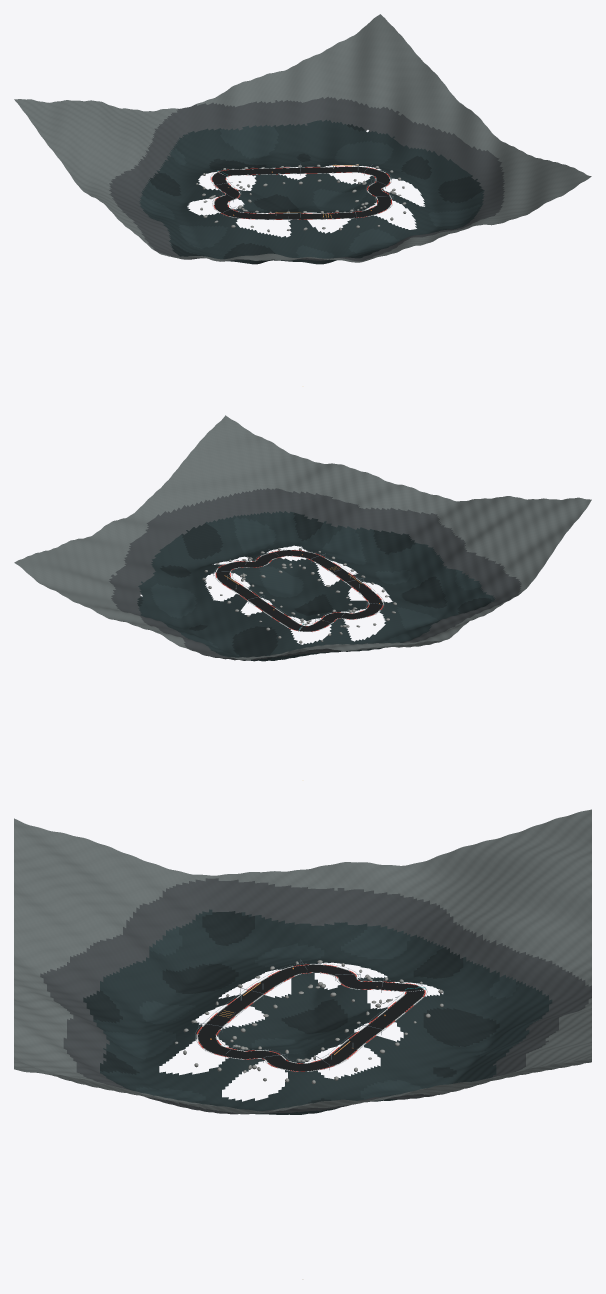
Rendered from rivet_factory.glb.
3 views of the same model, one above another, from view 1: azimuth 30°, elevation 25°; view 2: azimuth 150°, elevation 25°; view 3: azimuth 270°, elevation 25° (orthographic). The views are drawn at different scales.
Visible parts, largest first — view 1: rivet_factory - Blender Mountain Course - Combined Blender G; view 2: rivet_factory - Blender Mountain Course - Combined Blender G; view 3: rivet_factory - Blender Mountain Course - Combined Blender G.
Boxes of the visible parts, x1,y1,x2,y2 form: rivet_factory - Blender Mountain Course - Combined Blender G: (14,14,591,264); rivet_factory - Blender Mountain Course - Combined Blender G: (14,415,591,661); rivet_factory - Blender Mountain Course - Combined Blender G: (14,809,591,1114).
Size of the model in its own units: 813 by 540 by 813.
Materials: 25 (6 with a texture image).
